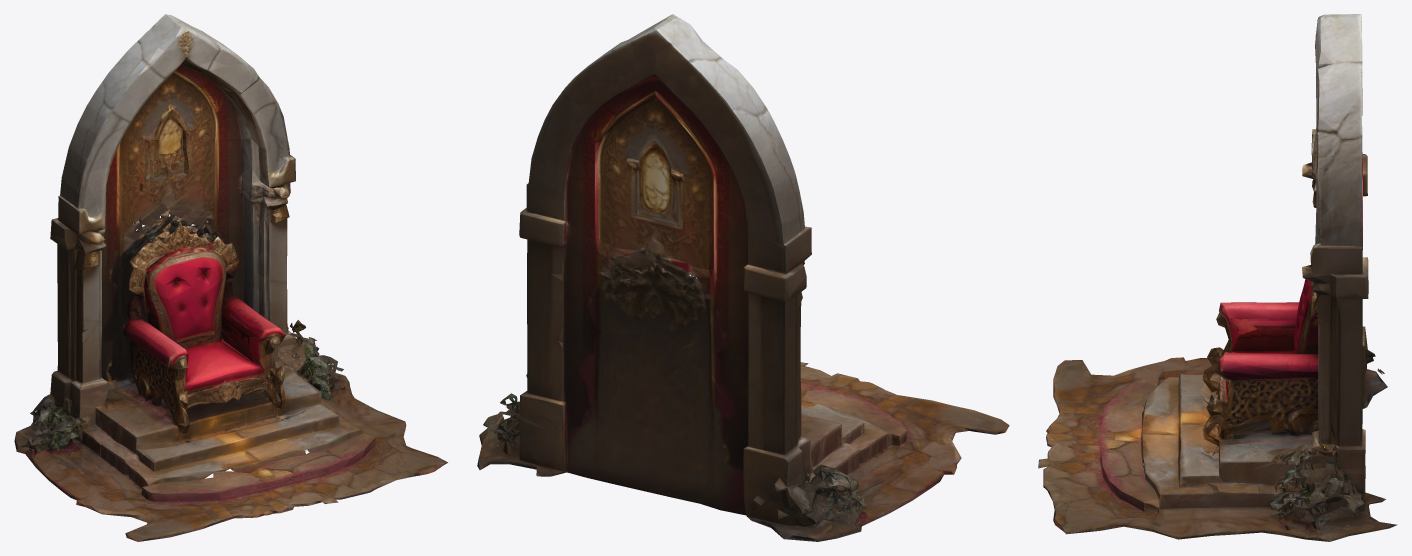
File: The_Majestic_Throne_0613151219_texture.fbx
The picture shows the model from 3 angles, left to right: view 1: azimuth 30°, elevation 25°; view 2: azimuth 150°, elevation 25°; view 3: azimuth 270°, elevation 25°; orthographic projection. The views are drawn at different scales.
Parts seen in each view (by area): view 1: temp; view 2: temp; view 3: temp.
Boxes of the visible parts, x1,y1,x2,y2 form: temp: (14, 14, 447, 541); temp: (477, 14, 1009, 541); temp: (1038, 14, 1397, 541).
Size of the model in its own units: 176 by 200 by 147.
1 material, 1 textured.
